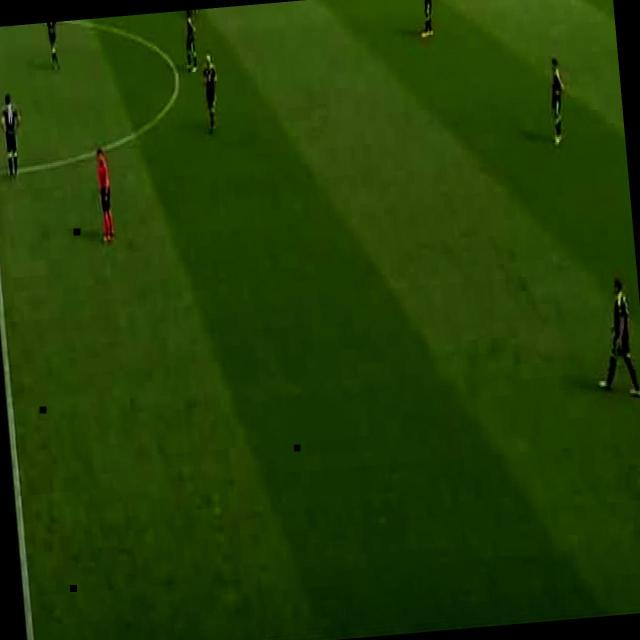player-white: (588, 279, 640, 399), (0, 93, 24, 177), (94, 150, 116, 240), (546, 58, 568, 146), (201, 53, 221, 133), (182, 11, 200, 73), (44, 22, 62, 70), (418, 0, 436, 36)
